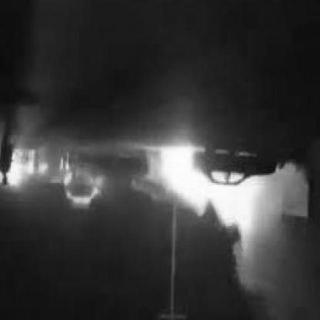Smoke: (230, 208, 312, 310)
other: (8, 154, 52, 190)
